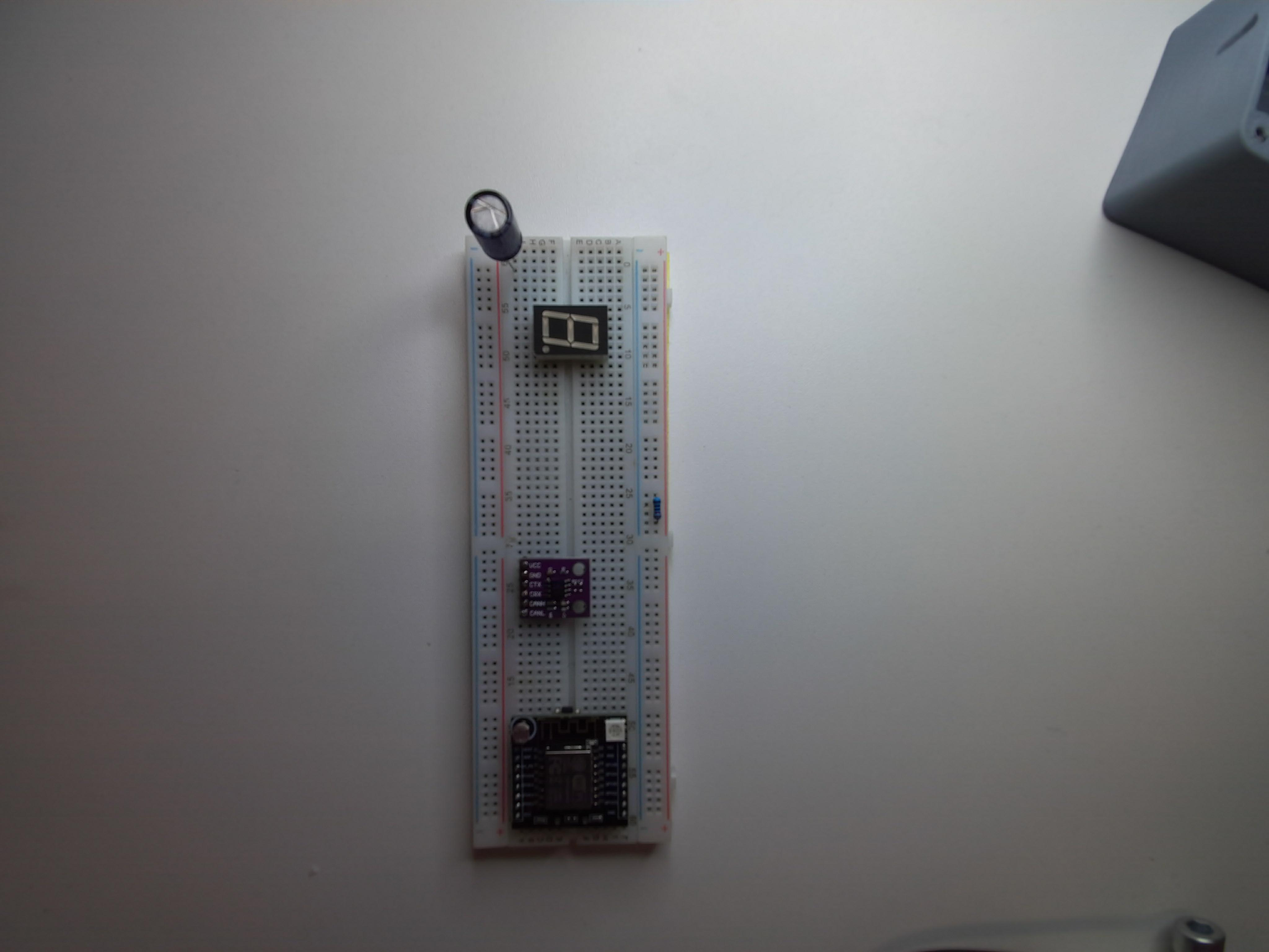base: (459, 190, 674, 860)
capacitor: (462, 191, 530, 267)
digit-board: (528, 301, 610, 366)
esp: (508, 715, 633, 834)
purple-board: (514, 557, 593, 627)
resistor-small: (651, 496, 662, 523)
